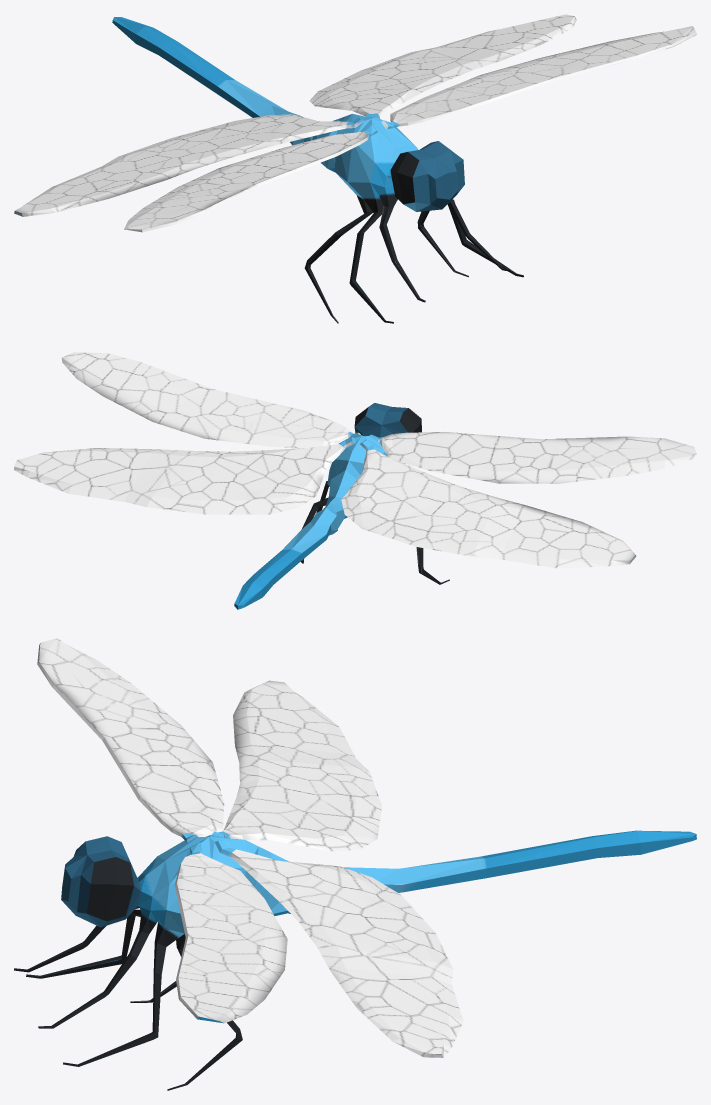
File: dragonflydone.glb
The picture shows the model from 3 angles, top to bottom: view 1: azimuth 30°, elevation 25°; view 2: azimuth 150°, elevation 25°; view 3: azimuth 270°, elevation 25°; orthographic projection. The views are drawn at different scales.
Visible parts, largest first — view 1: b7b31b1e-51de-4658-b3b1-f0bcc48cbb86; view 2: b7b31b1e-51de-4658-b3b1-f0bcc48cbb86; view 3: b7b31b1e-51de-4658-b3b1-f0bcc48cbb86.
Part boxes in pixels (<box>): b7b31b1e-51de-4658-b3b1-f0bcc48cbb86: <box>14,14,696,323</box>; b7b31b1e-51de-4658-b3b1-f0bcc48cbb86: <box>14,352,696,609</box>; b7b31b1e-51de-4658-b3b1-f0bcc48cbb86: <box>14,638,696,1090</box>.
Size of the model in its own units: 0.4054 by 0.1058 by 0.2968.
1 material, 1 textured.
